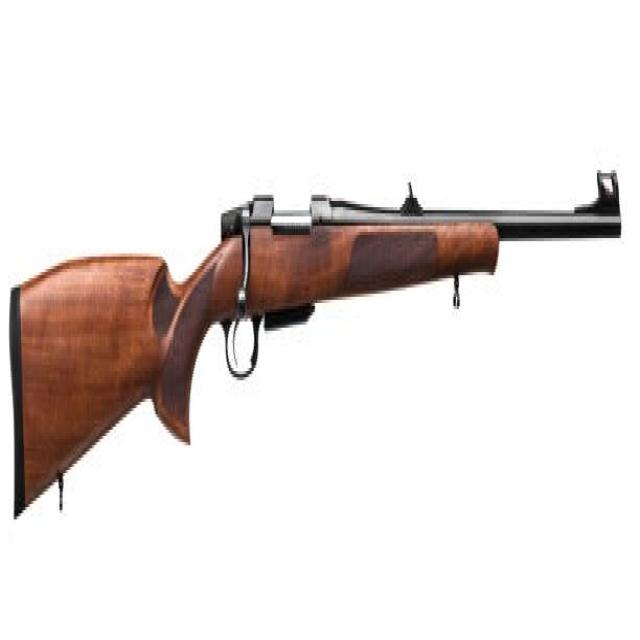rifle: (7, 163, 629, 539)
